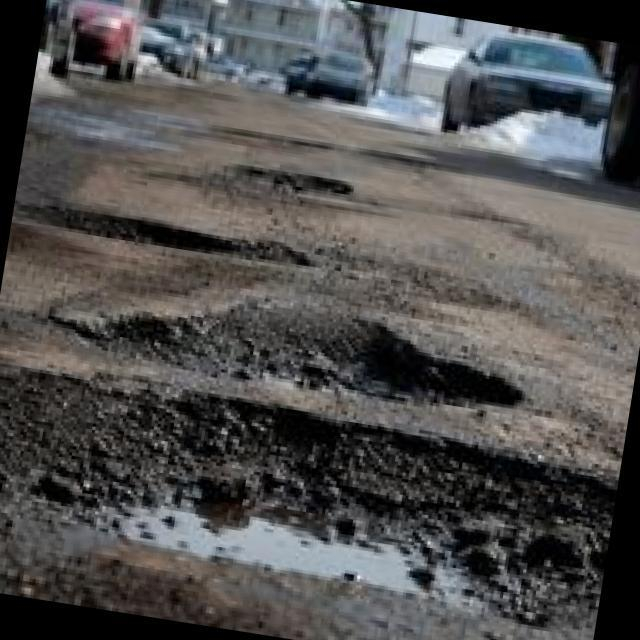Pothole: (0, 349, 620, 640), (33, 265, 556, 431), (10, 192, 318, 274), (146, 146, 363, 222)
